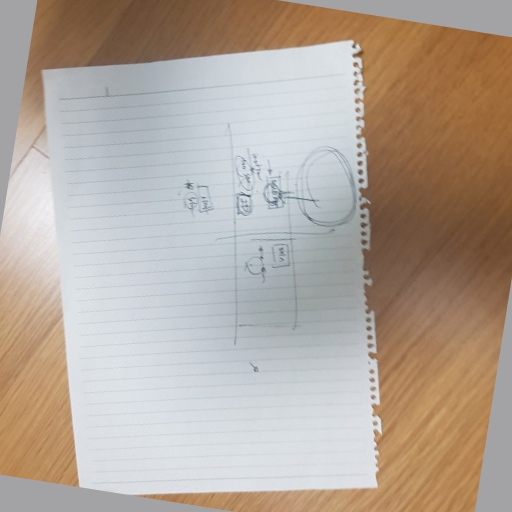Paper_2: (37, 36, 394, 500)
